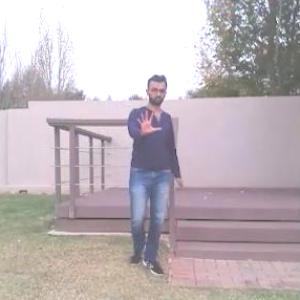follow_hand: (134, 105, 164, 138)
